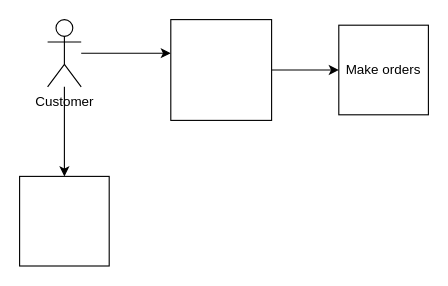
This 448x286 diagram has some shape labels left out. Here are the shapes that lost their labels. From the top down, the centre of each, then its label:
pixel 221 69: Add products to Cart
pixel 63 220: Make Payments
